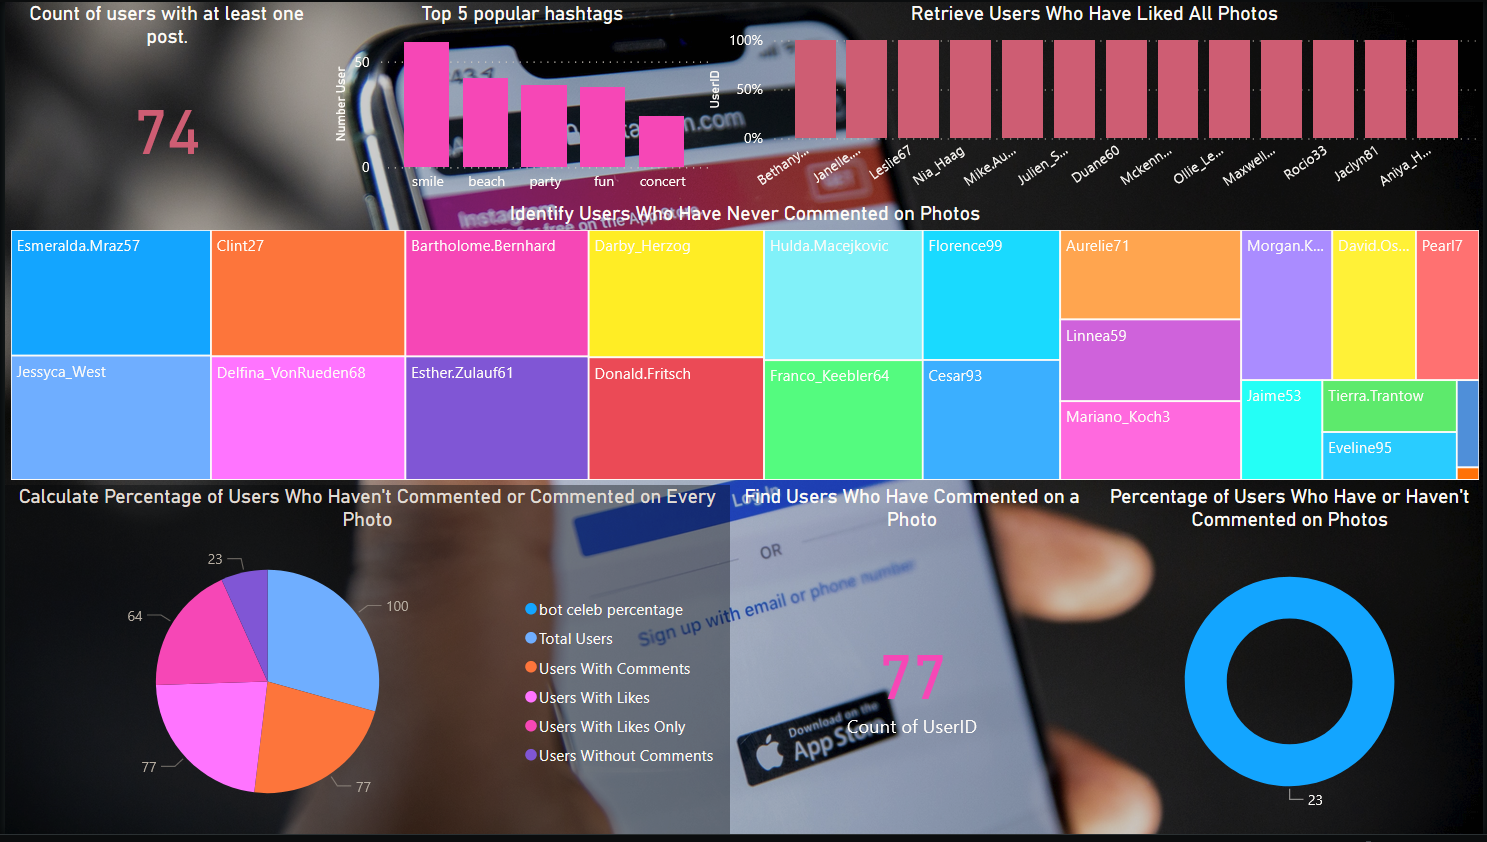

The page's visual inventory and layout, read from the dashboard file:
{"tool":"powerbi","page":{"name":"Page 2","canvas":[1280,720],"ordinal":1},"visuals":[{"type":"card","title":"Count of users with at least one post.","fields":{"Values":["Sum(8.num_users)"]},"box":[0,0,280.1,172.8],"z":0},{"type":"clusteredColumnChart","title":"Top 5 popular hashtags","fields":{"Y":["Sum(9.num_uses)"],"Category":["9.tagtext"]},"box":[280.1,0,334.4,172.8],"z":1000},{"type":"hundredPercentStackedColumnChart","title":"Retrieve Users Who Have Liked All Photos","fields":{"Category":["10.Name"],"Y":["Sum(10.UserID)"]},"box":[603.4,0,677.2,172.8],"z":2000},{"type":"treemap","title":"Identify Users Who Have Never Commented on Photos","fields":{"Group":["11.name"],"Values":["Sum(11.UserID)"]},"box":[0,172.8,1280.6,245.2],"z":3000},{"type":"pieChart","title":"Calculate Percentage of Users Who Haven''t Commented or Commented on Every Photo","fields":{"Y":["Sum(12.bot_celeb_percentage)","Sum(12.total_users)","Sum(12.users_with_comments)","Sum(12.users_with_likes)","Sum(12.users_with_likes_only)","Sum(12.users_without_comments)"]},"box":[0,418,627,302.4],"z":4000},{"type":"card","title":"Find Users Who Have Commented on a Photo","fields":{"Values":["CountNonNull(13.UserID)"]},"box":[627,418,314.9,302.4],"z":5000},{"type":"donutChart","title":"Percentage of Users Who Have or Haven''t Commented on Photos","fields":{"Y":["Sum(14.percentage)"]},"box":[942,418,338.6,302.4],"z":6000}]}

Visuals, with their boxes in screenshot pixels (x1, y1, x2, y2), scaled from the page's 1280x720 canvas onto the 1487x842 screenshot:
"Count of users with at least one post." card: <box>0,0,325,202</box>
"Top 5 popular hashtags" clusteredColumnChart: <box>325,0,714,202</box>
"Retrieve Users Who Have Liked All Photos" hundredPercentStackedColumnChart: <box>701,0,1486,202</box>
"Identify Users Who Have Never Commented on Photos" treemap: <box>0,202,1486,489</box>
"Calculate Percentage of Users Who Haven''t Commented or Commented on Every Photo" pieChart: <box>0,489,728,841</box>
"Find Users Who Have Commented on a Photo" card: <box>728,489,1094,841</box>
"Percentage of Users Who Have or Haven''t Commented on Photos" donutChart: <box>1094,489,1486,841</box>
